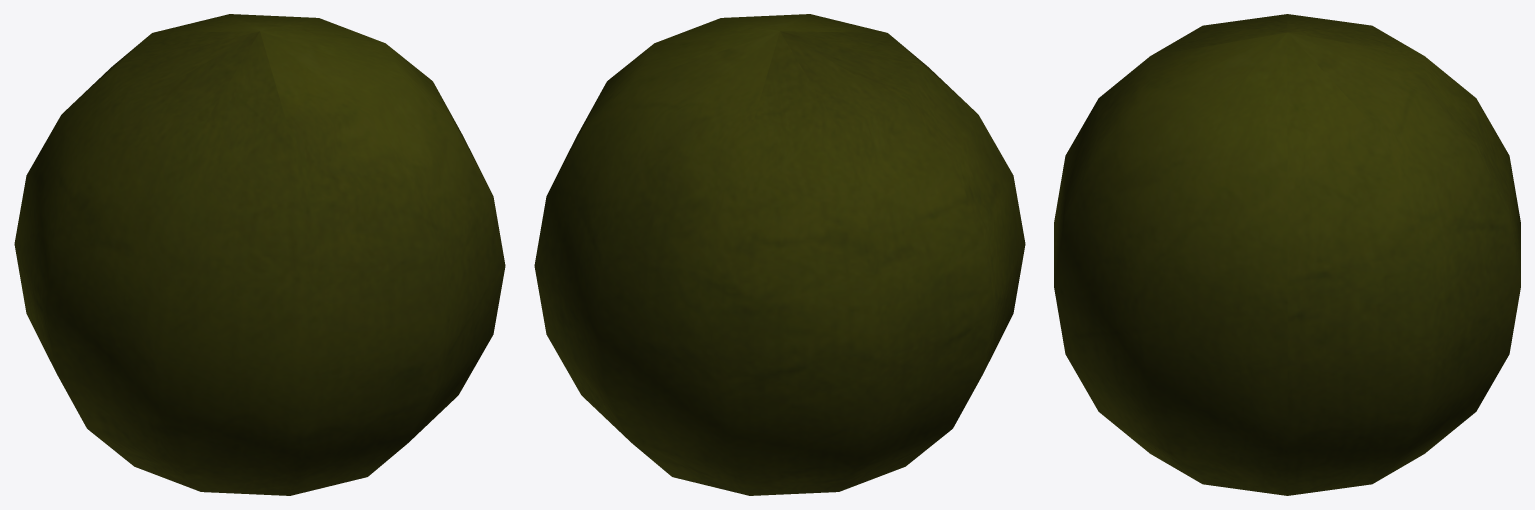
Rendered from Pea.fbx.
3 views of the same model, side by side, from view 1: azimuth 30°, elevation 25°; view 2: azimuth 150°, elevation 25°; view 3: azimuth 270°, elevation 25° (orthographic).
Visible parts, largest first — view 1: sphere; view 2: sphere; view 3: sphere.
Part boxes in pixels (box(x1,y1,x2,y2)): sphere: box(14, 14, 505, 495); sphere: box(534, 14, 1025, 495); sphere: box(1054, 14, 1520, 495).
Size of the model in its own units: 2.34 by 2.34 by 2.22.
1 material, 1 textured.
